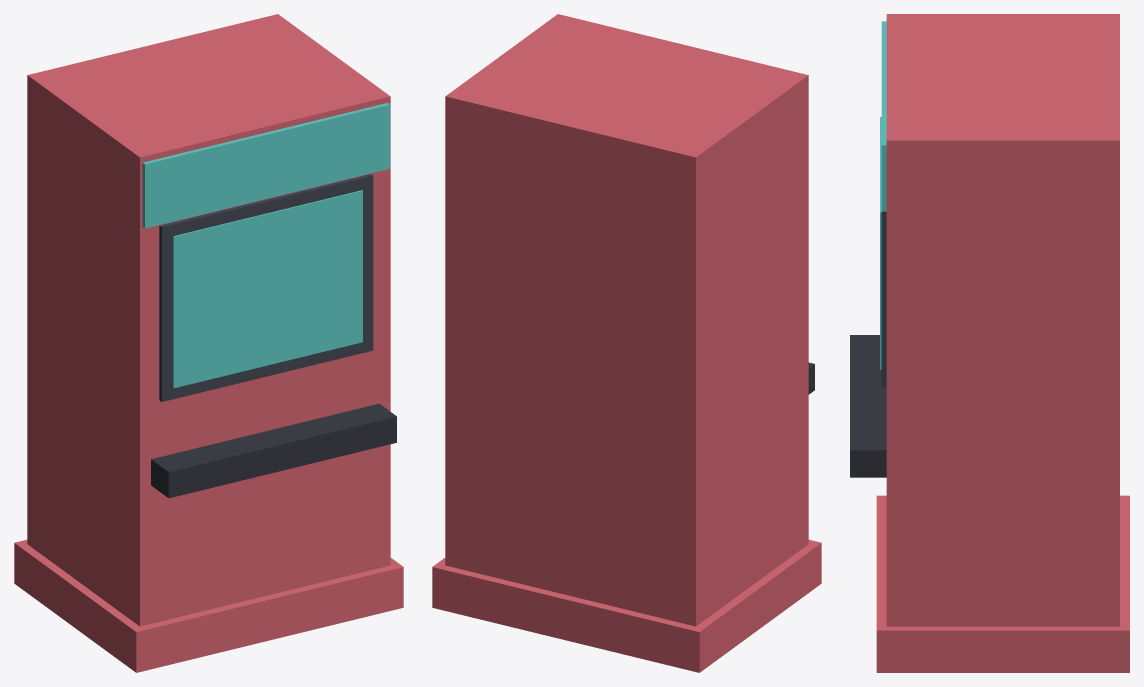
The model's file is borne_arcade.glb.
The picture shows the model from 3 angles, left to right: view 1: azimuth 30°, elevation 25°; view 2: azimuth 150°, elevation 25°; view 3: azimuth 270°, elevation 25°; orthographic projection. The views are drawn at different scales.
Parts seen in each view (by area): view 1: world; view 2: world; view 3: world.
Part boxes in pixels (box(x1,y1,x2,y2)): world: box(14, 14, 403, 672); world: box(432, 14, 821, 672); world: box(850, 14, 1129, 672).
Size of the model in its own units: 0.96 by 1.75 by 0.84.
